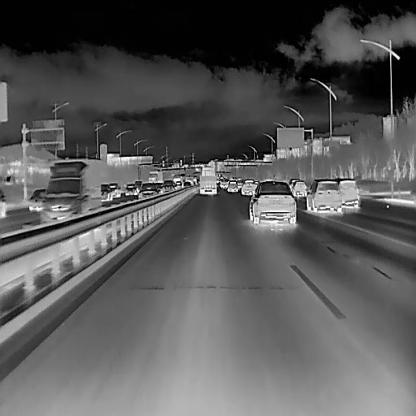car: (42, 156, 103, 224), (247, 179, 298, 223), (305, 176, 342, 214), (336, 176, 360, 208), (25, 187, 50, 211), (198, 166, 217, 194), (138, 181, 157, 203), (146, 169, 164, 185), (239, 179, 257, 195), (99, 182, 112, 203), (292, 180, 308, 197), (108, 181, 121, 199), (163, 177, 176, 193), (225, 180, 238, 193), (124, 180, 135, 195), (181, 179, 191, 191), (174, 179, 182, 192), (219, 179, 228, 189)
